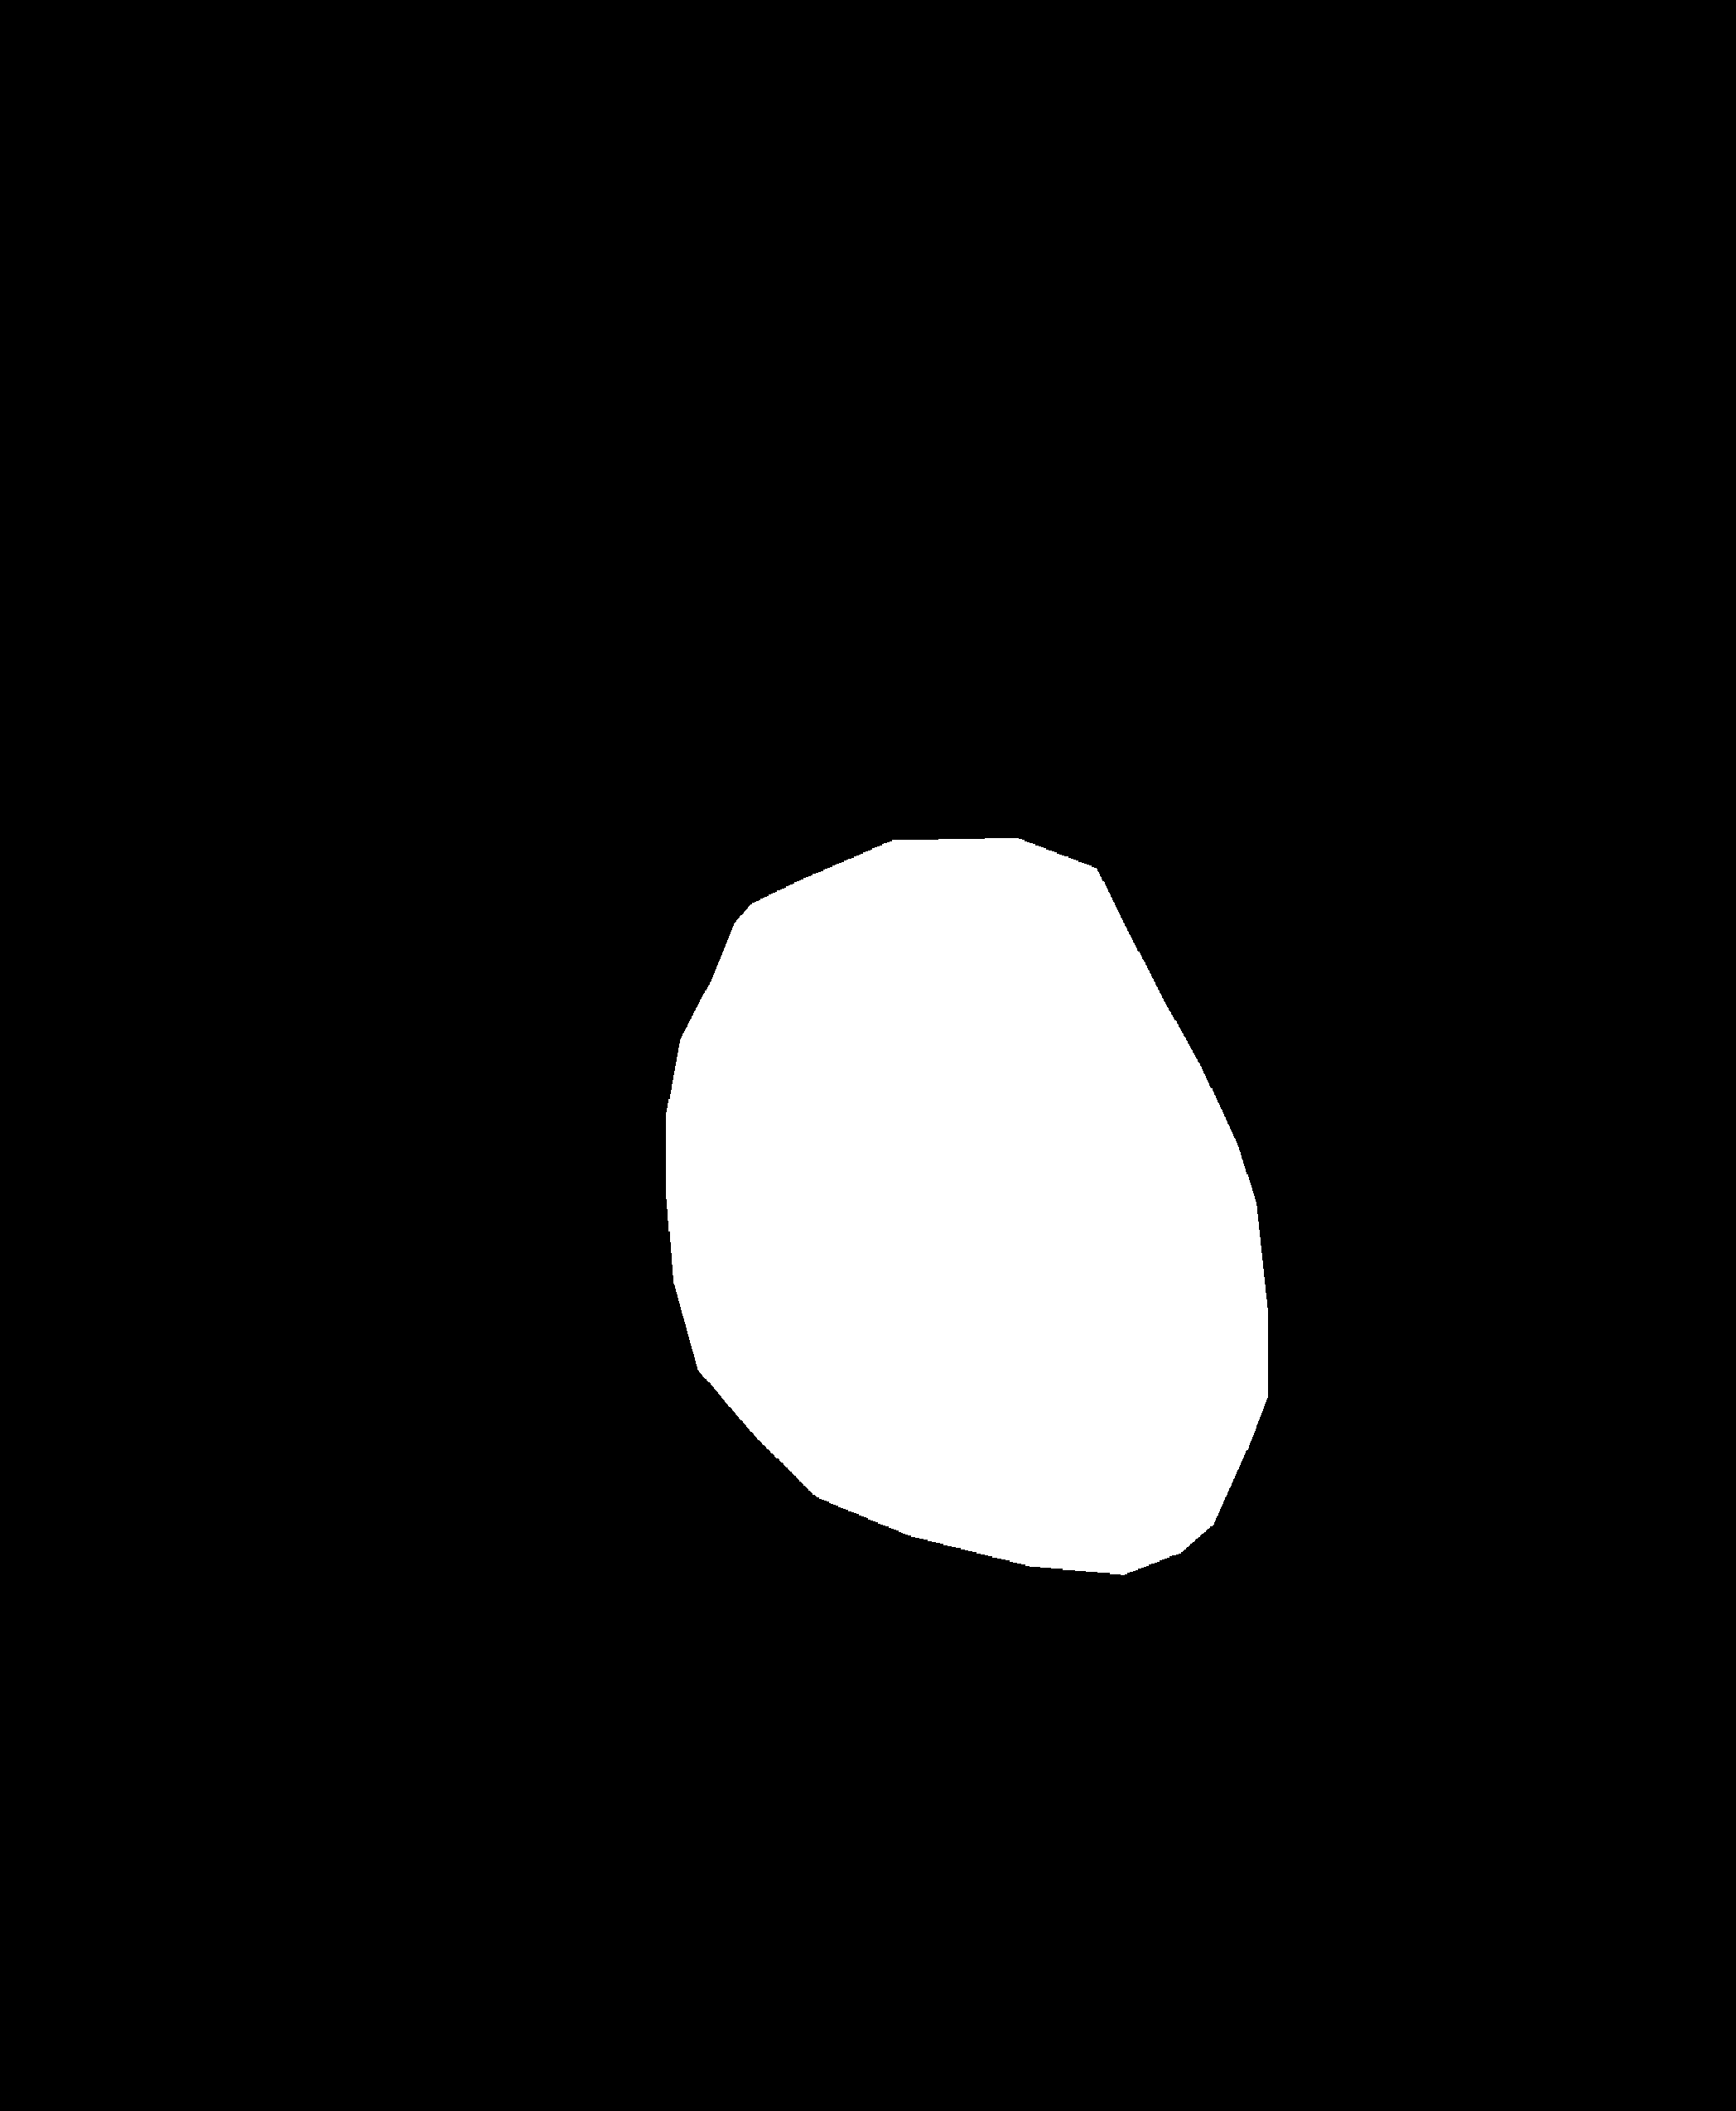heart: (654, 945, 1271, 1613)
left_lung: (161, 147, 801, 1603)
right_lung: (966, 137, 1541, 1659)
